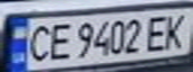0: (109, 17, 130, 56)
2: (124, 15, 148, 54)
4: (93, 17, 115, 57)
9: (72, 19, 96, 60)
C: (21, 20, 54, 63)
E: (45, 20, 75, 62), (142, 12, 172, 53)
K: (160, 10, 193, 51)
